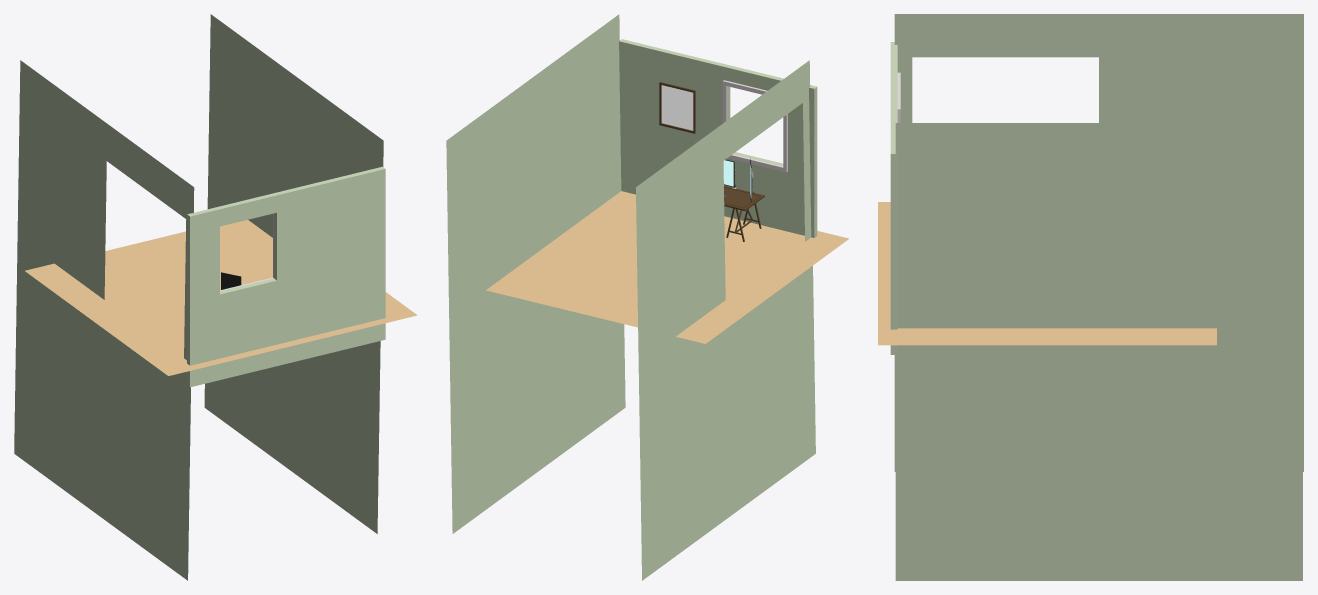
Rendered from desk.glb.
3 views of the same model, side by side, from view 1: azimuth 30°, elevation 25°; view 2: azimuth 150°, elevation 25°; view 3: azimuth 270°, elevation 25° (orthographic). The views are drawn at different scales.
Visible parts, largest first — view 1: Plane.003, Plane.002, Cube.011, Plane.001; view 2: Plane.002, Plane.003, Plane.001, Cube.011, Cube.034, Cube.012, Cube; view 3: Plane.002, Plane.003, Plane.001, Cube.011.
Part boxes in pixels (x1,y1,x2,y2): Plane.003: (14, 60, 194, 580); Plane.002: (204, 14, 383, 533); Cube.011: (187, 166, 385, 387); Plane.001: (25, 220, 417, 375); Plane.002: (446, 14, 625, 533); Plane.003: (636, 60, 815, 580); Plane.001: (486, 191, 848, 343); Cube.011: (619, 39, 817, 237); Cube.034: (661, 85, 693, 130); Cube.012: (722, 80, 787, 172); Cube: (724, 185, 764, 210); Plane.002: (895, 123, 1302, 580); Plane.003: (894, 14, 1303, 471); Plane.001: (878, 202, 1216, 345); Cube.011: (890, 42, 897, 354).
Bounding box in the file's own units: 70.33 × 106 × 88.36.
